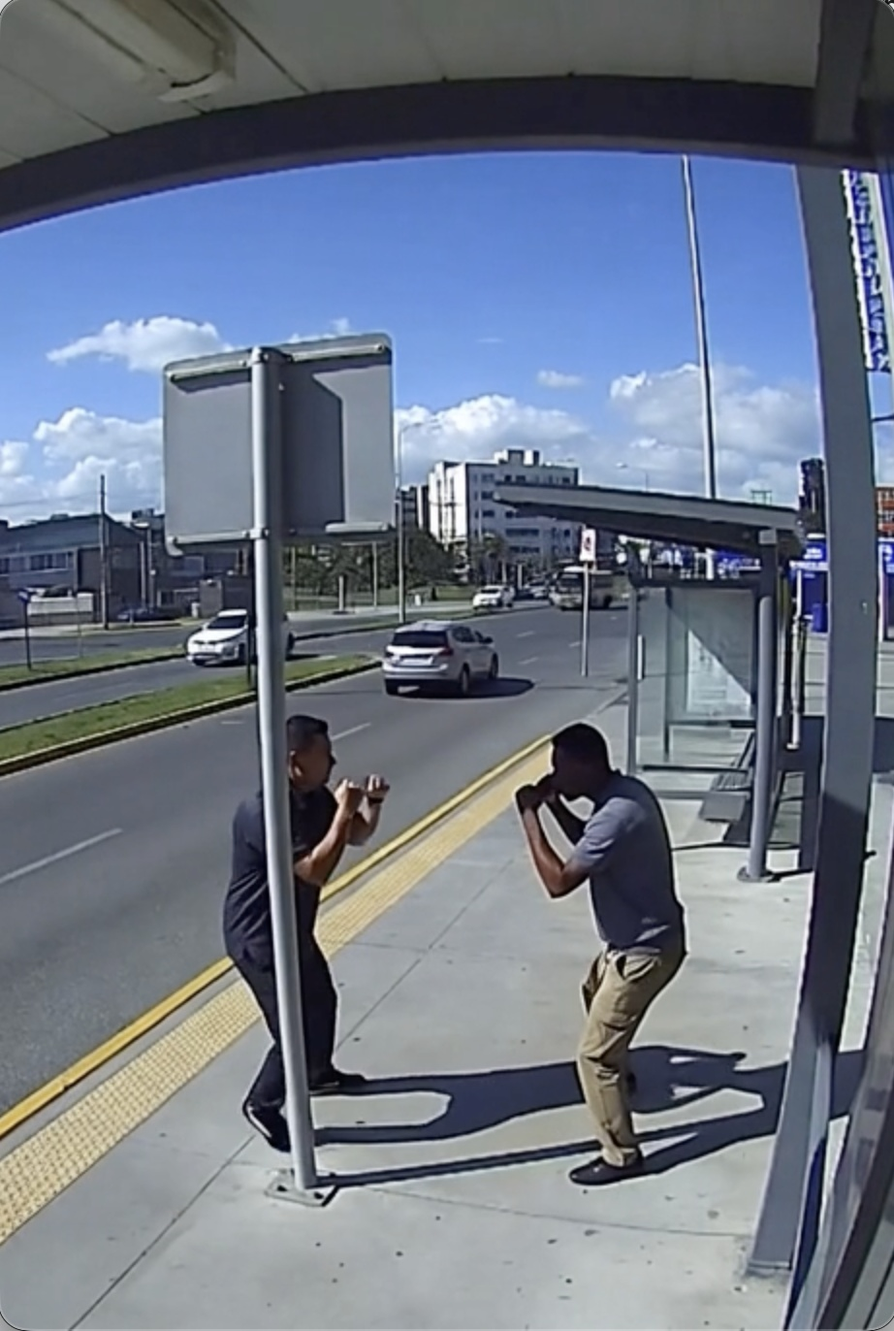Assault: (221, 714, 390, 1155)
Fighting: (513, 721, 689, 1190)
